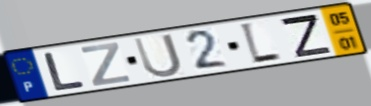2: (185, 28, 231, 75)
L: (237, 21, 285, 67), (41, 51, 88, 93)
U: (131, 32, 185, 80)
Z: (277, 12, 335, 59), (79, 40, 133, 88)
